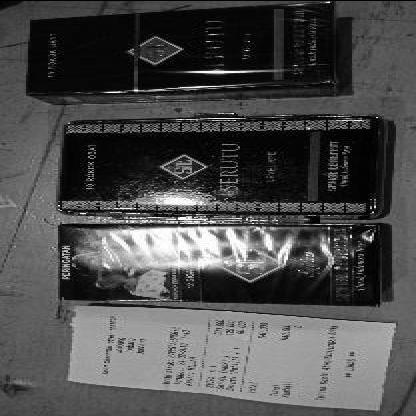objects: (58, 114, 386, 215), (25, 1, 337, 103), (58, 223, 380, 306)
